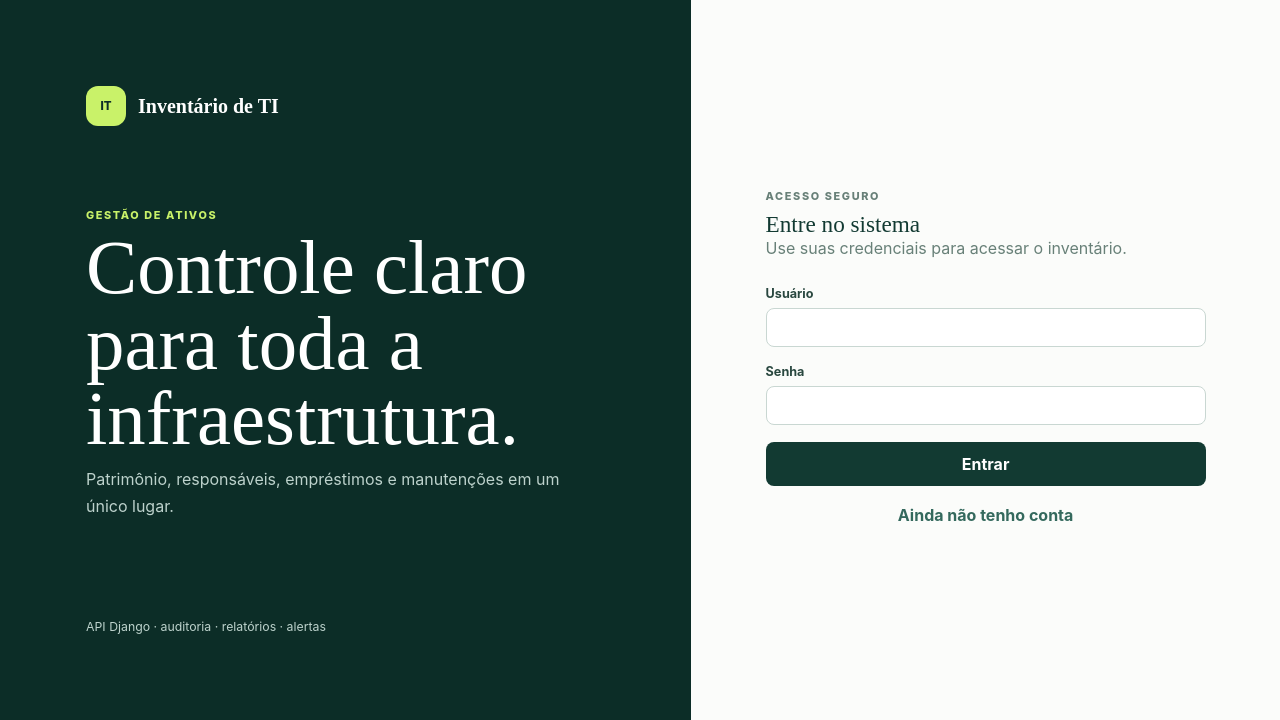
Test: AuthPage › mostra a mensagem retornada pela API
Type "romario" into the field labelled "Usuário" at (986, 327), box [766,308,1206,346]
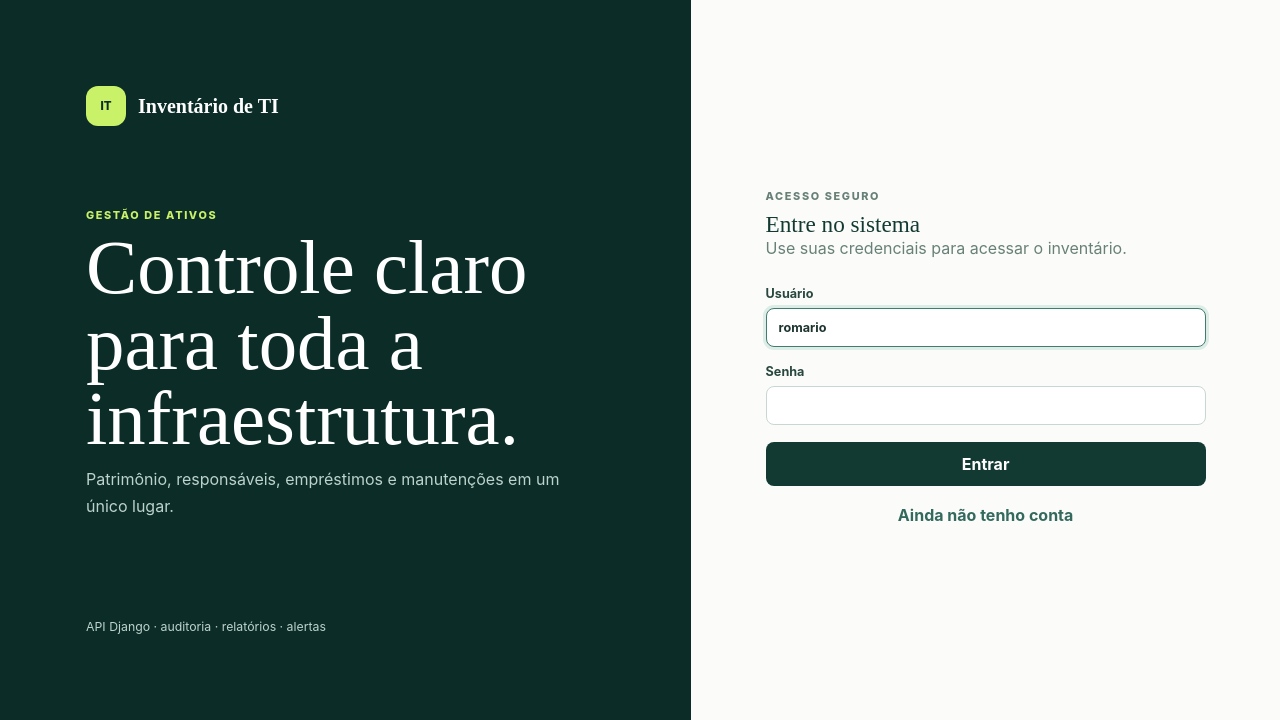
Type "incorreta" into the password field labelled "Senha" at (986, 405), box [766,386,1206,424]
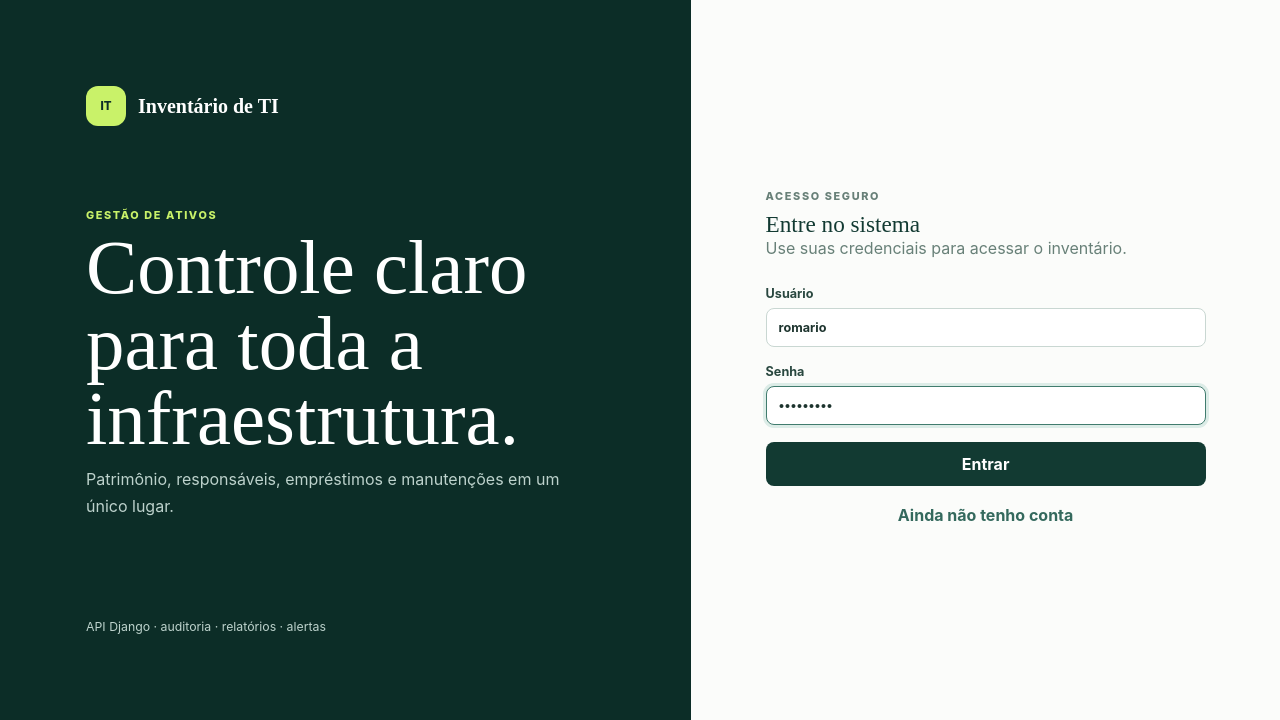
Click the button "Entrar" at (986, 464), box [766,442,1206,486]
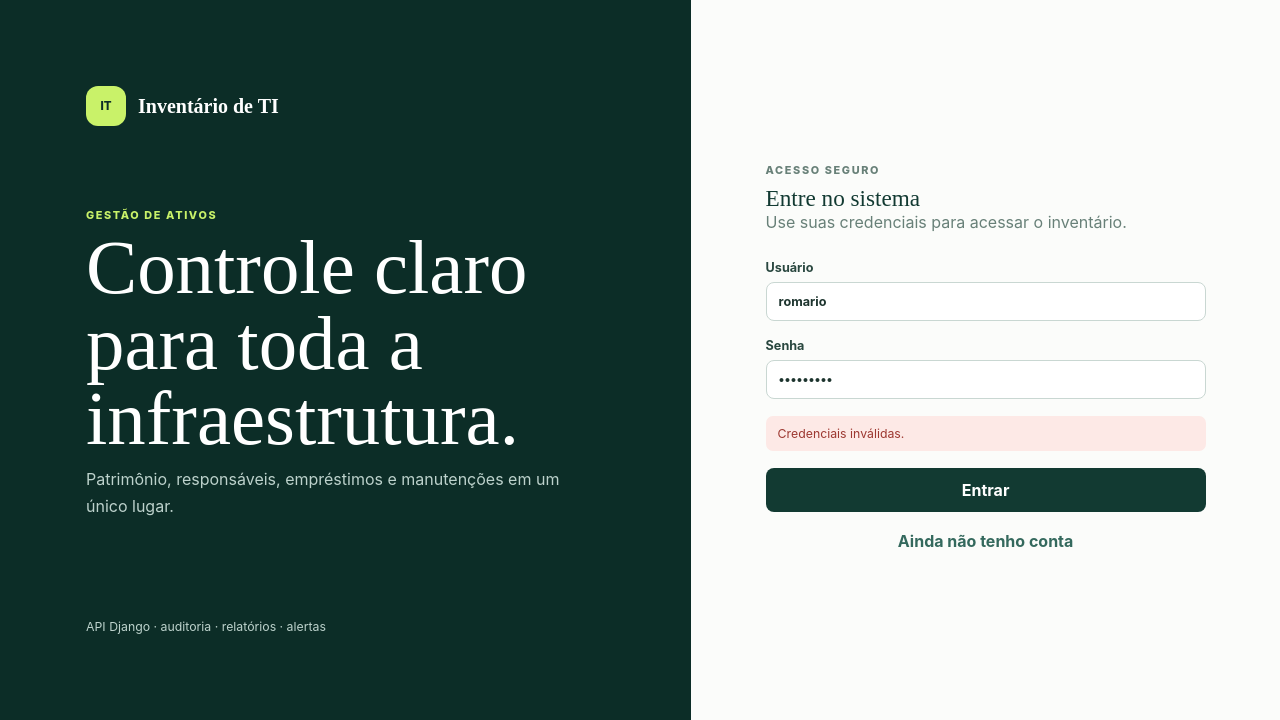
Expected: the message reads "Credenciais inválidas.", [778,426,904,440]
